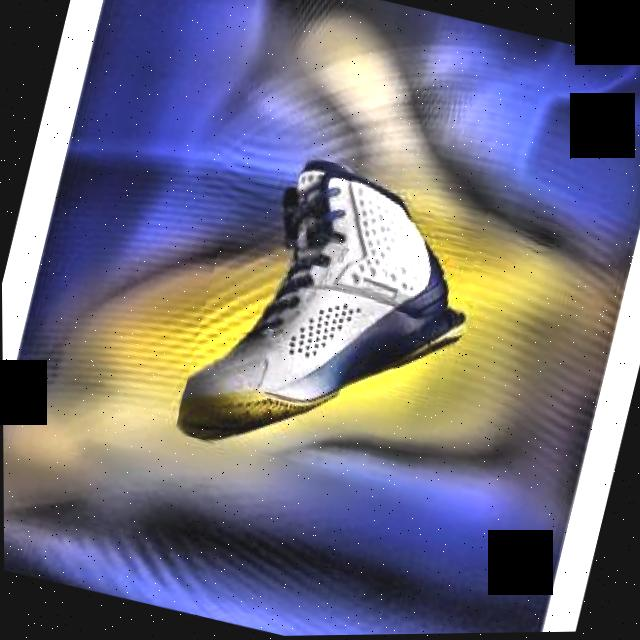shoe: (171, 137, 493, 495)
